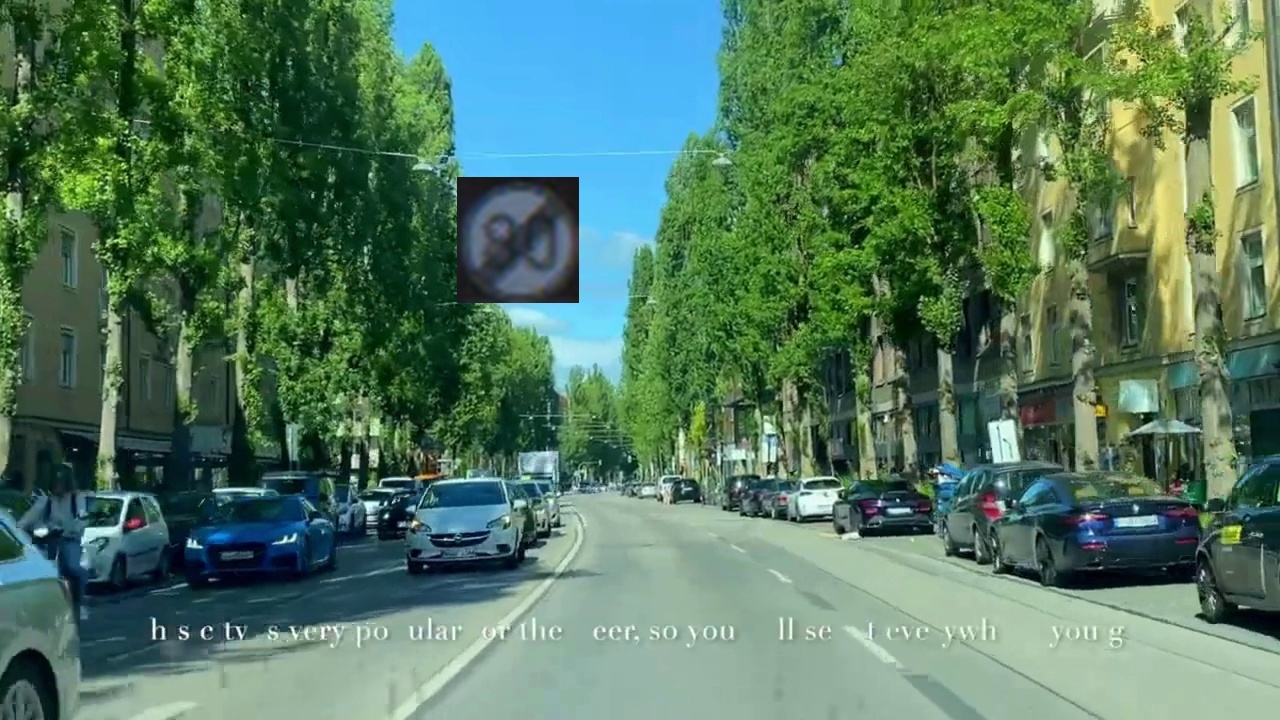End Speed 80: (457, 177, 579, 303)
